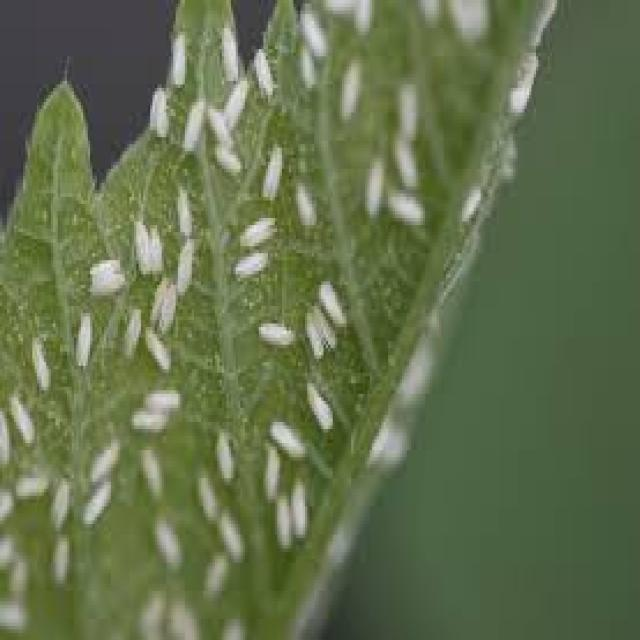Pestalotiopsis: (0, 0, 536, 640)
